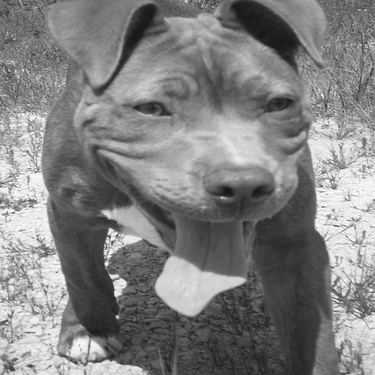dog: (32, 1, 347, 371)
